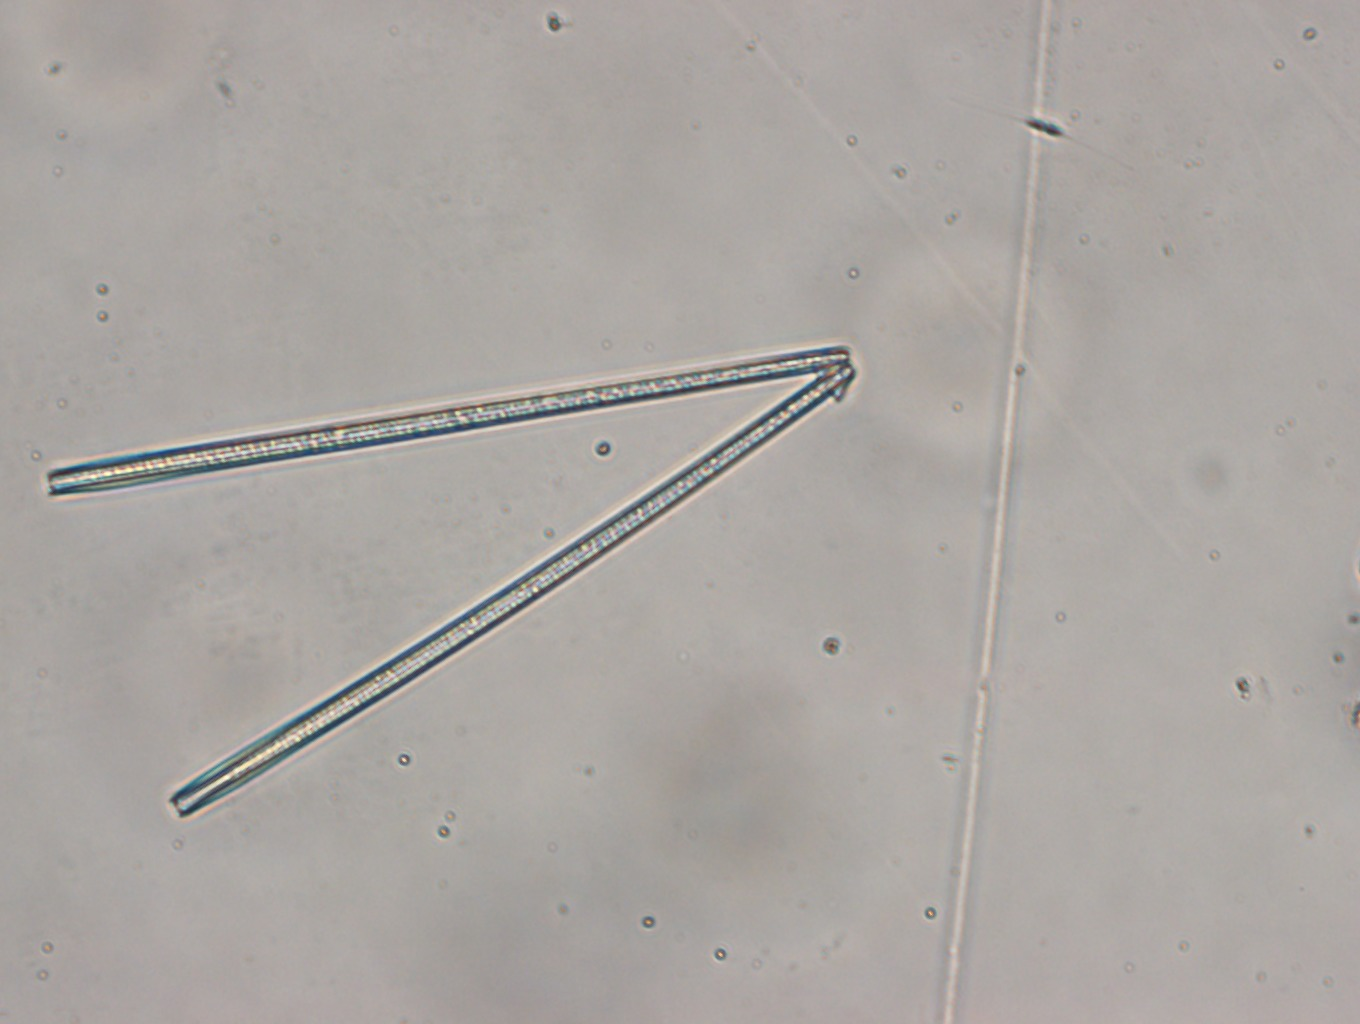thalassionema frauenfeldii: (43, 346, 857, 823)
